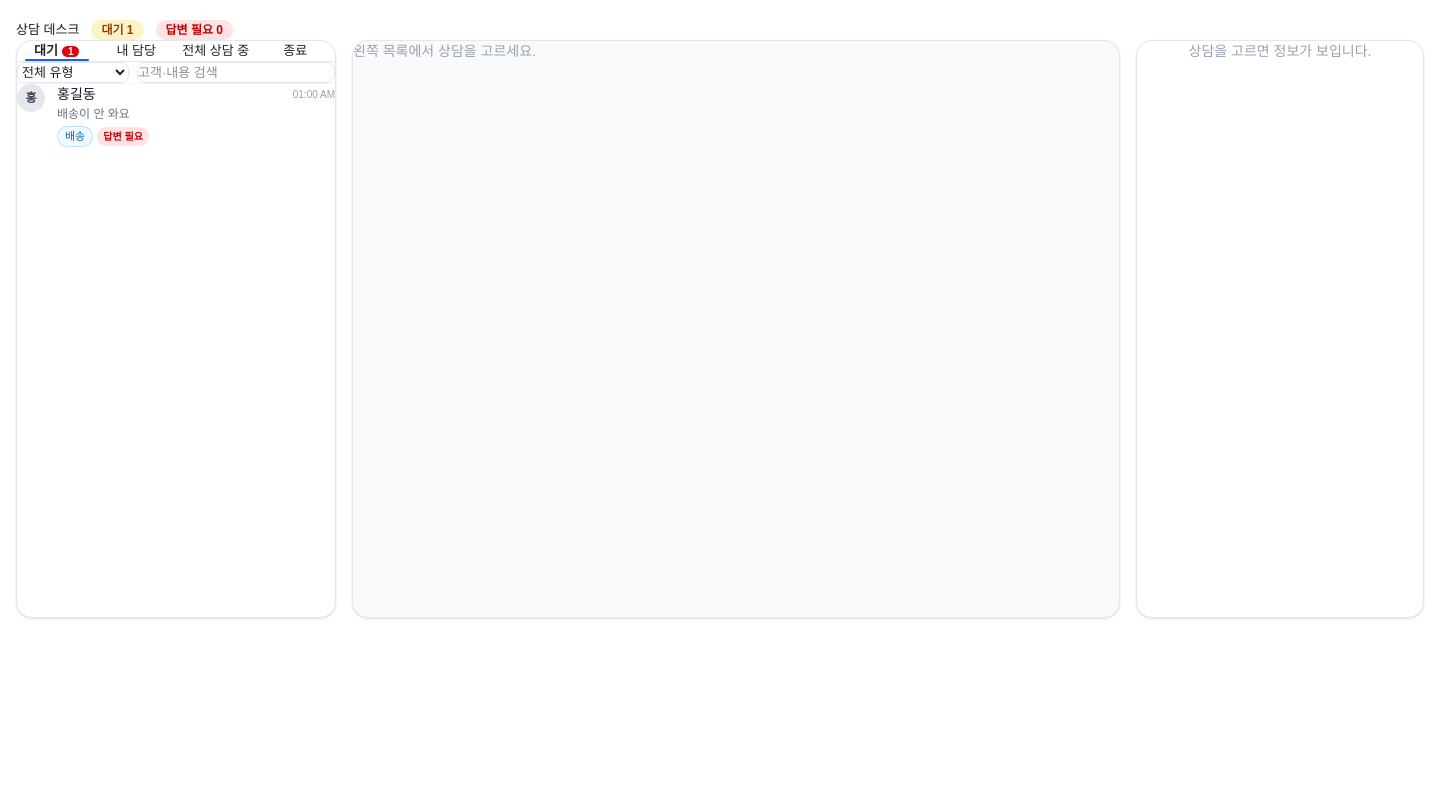
Scenario: Desk — 상담 데스크 › 🔴 대기 중인 상담은 맡기 전에는 답할 수 없다 — 맡으면 입력창이 열린다
Click the button "홍 홍길동 01:00 AM 배송이 안 와요 배송 답변 필요".
click(76, 94)  # box [17,84,335,146]
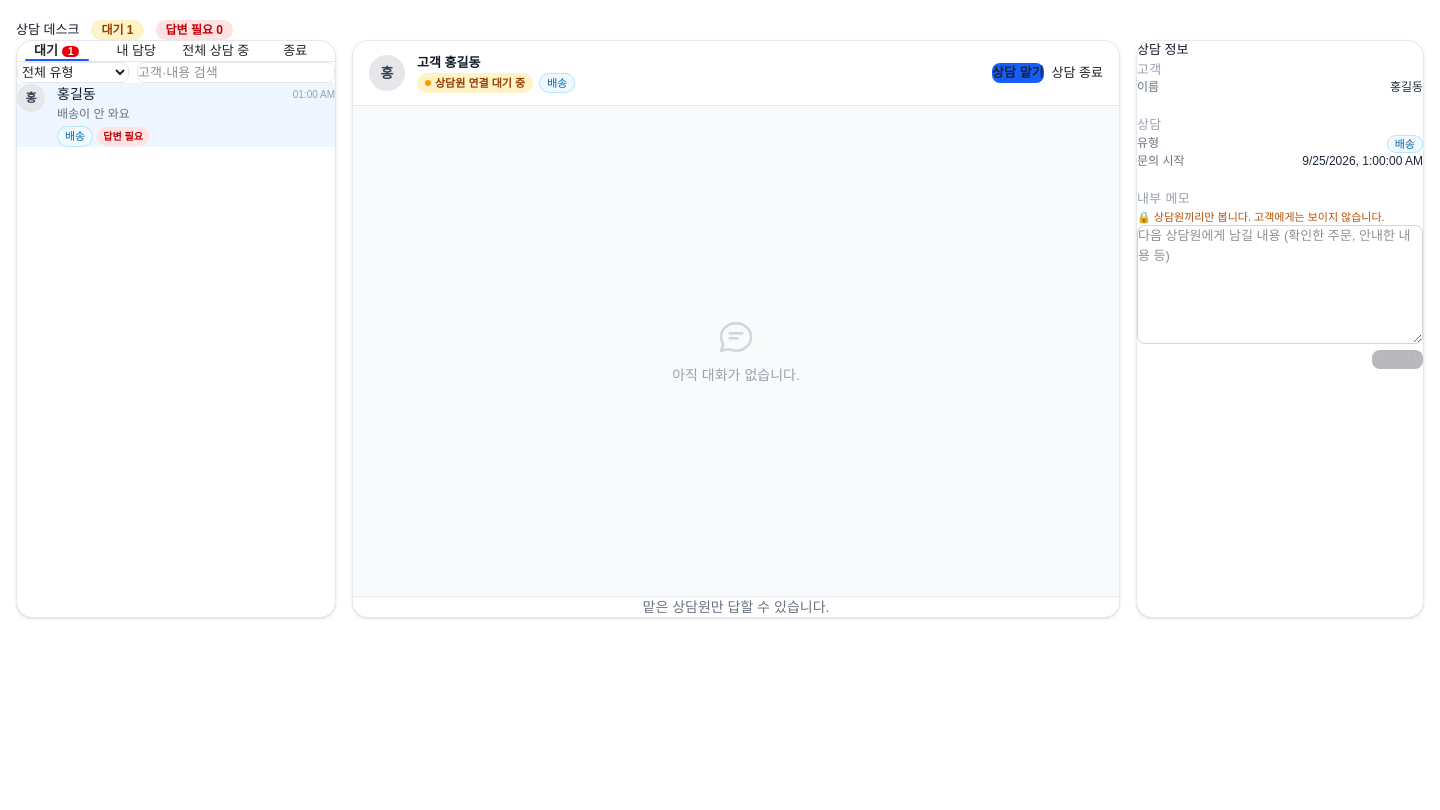
Expected: the field labelled "메시지를 입력하세요" is not shown
Expected: the text "맡은 상담원만 답할 수 있습니다." is shown, [353,596,1119,617]
Click the button "상담 맡기".
click(1018, 73)  # box [992,63,1044,83]
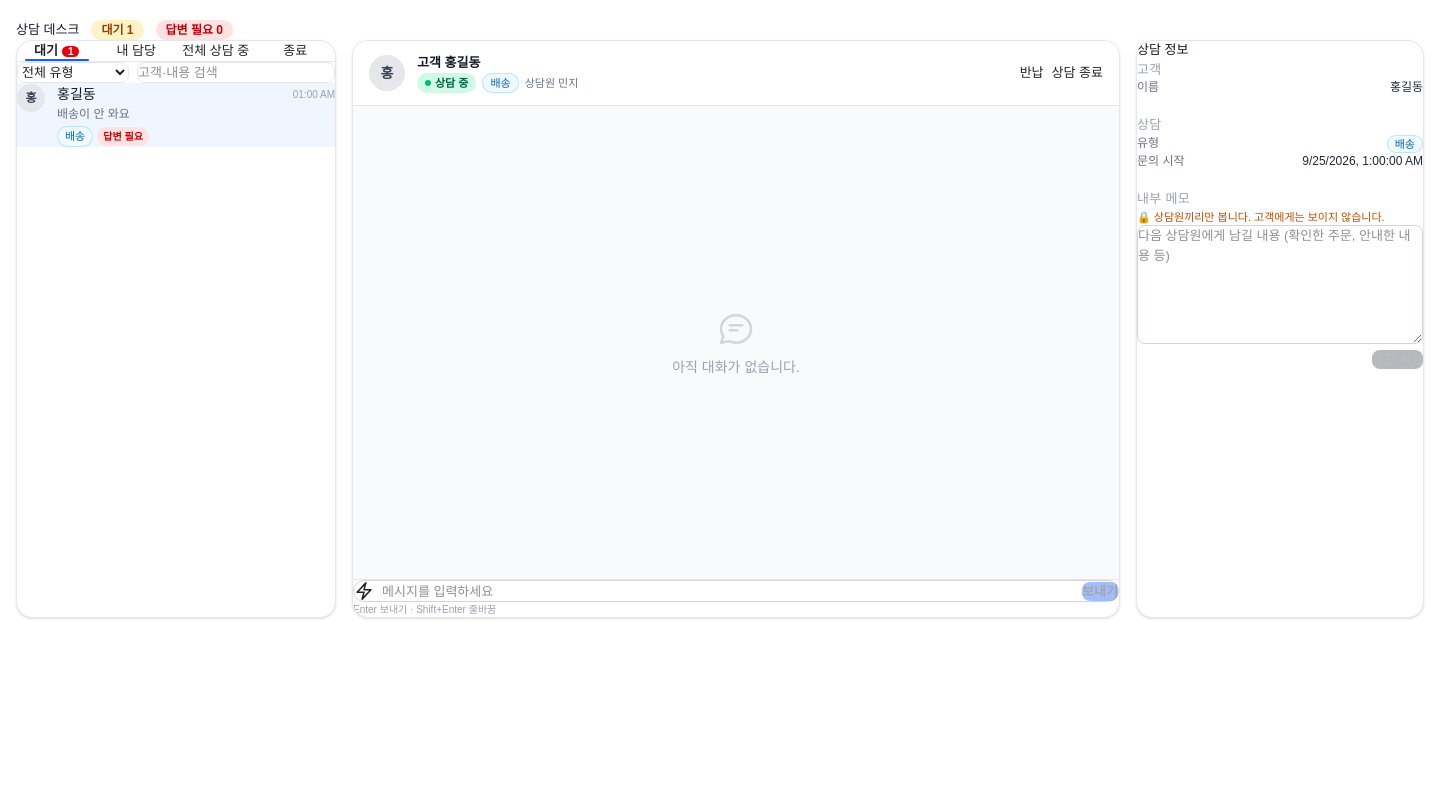
Expected: the text box labelled "메시지를 입력하세요" is shown, [382,582,1074,601]
